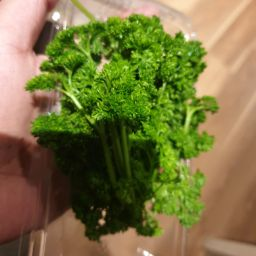Parsley: (35, 6, 218, 201), (24, 109, 209, 237), (81, 19, 202, 107), (45, 14, 118, 136)
